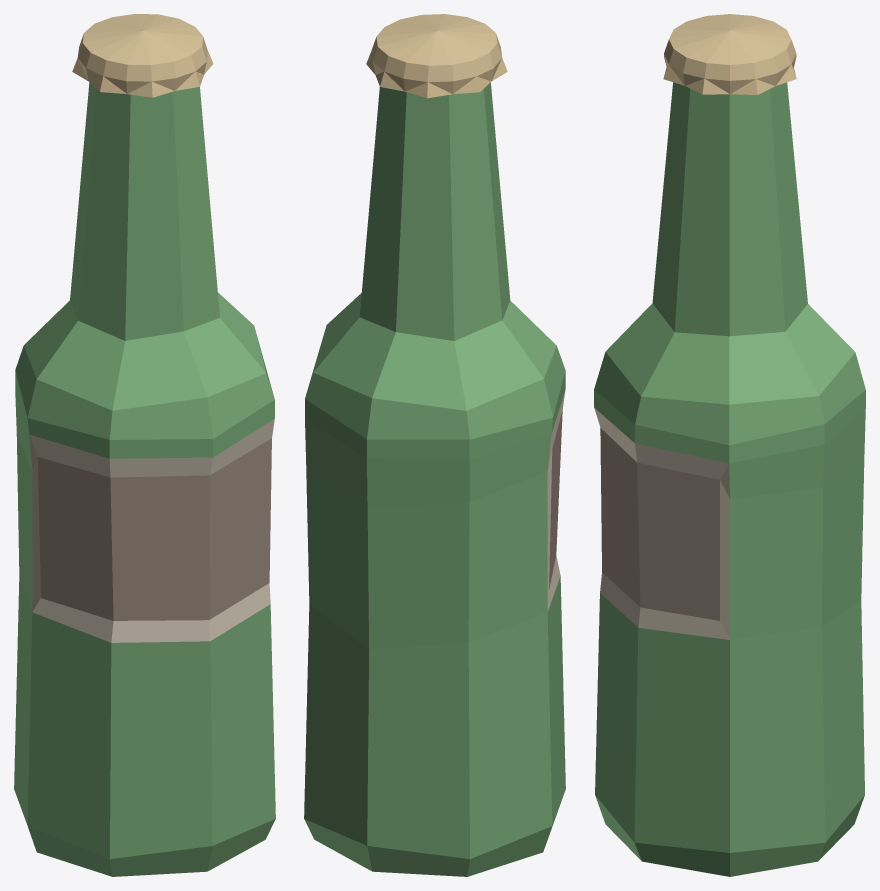
Rendered from alco_big.fbx.
3 views of the same model, side by side, from view 1: azimuth 30°, elevation 25°; view 2: azimuth 150°, elevation 25°; view 3: azimuth 270°, elevation 25° (orthographic).
Parts seen in each view (by area): view 1: Cylinder; view 2: Cylinder; view 3: Cylinder.
Boxes of the visible parts, bbox=[...] form: Cylinder: bbox=[14, 14, 275, 876]; Cylinder: bbox=[304, 14, 565, 876]; Cylinder: bbox=[594, 14, 865, 876].
Size of the model in its own units: 1.81 by 5.81 by 1.8.
